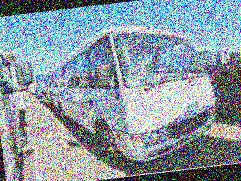bus: (35, 15, 222, 176)
